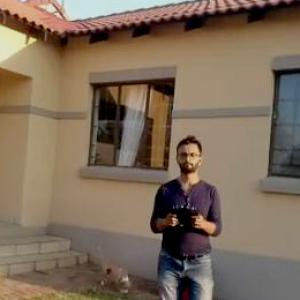follow: (136, 131, 224, 299)
null: (89, 239, 135, 298)
